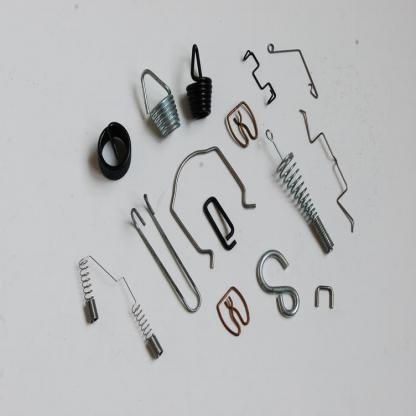FOD: (78, 256, 163, 364), (266, 126, 334, 254), (140, 64, 182, 140), (96, 118, 133, 184), (186, 41, 214, 122)
